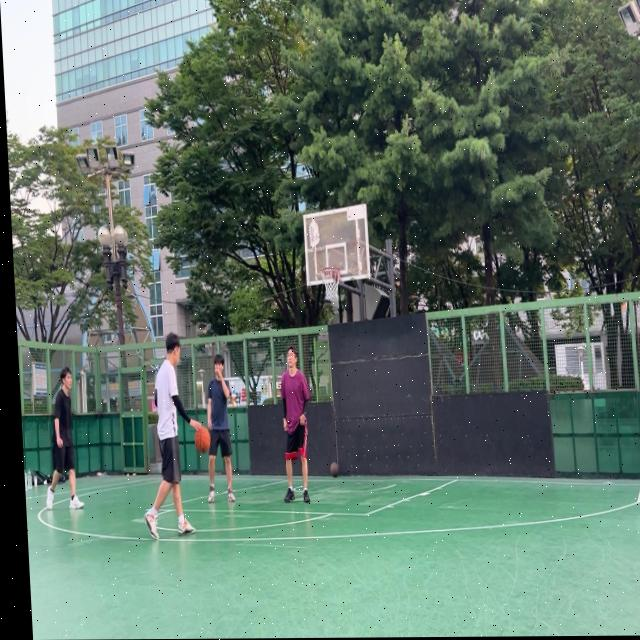basketball: (194, 426, 212, 454), (330, 461, 340, 478)
hoop: (320, 266, 343, 302)
